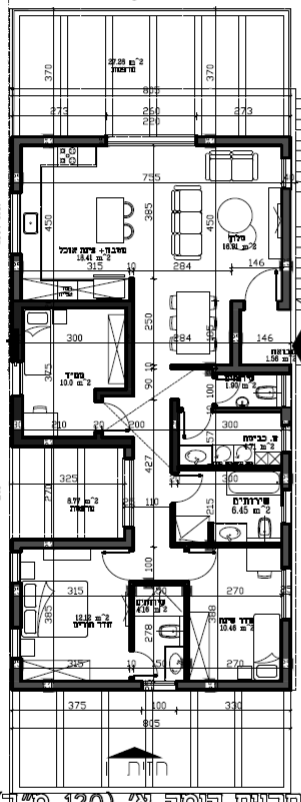door: (181, 546, 224, 582), (102, 547, 141, 580), (171, 471, 208, 502), (243, 271, 280, 301), (181, 404, 210, 441), (107, 401, 137, 435), (131, 649, 166, 677), (216, 376, 245, 407)
room: (29, 151, 152, 270), (165, 147, 282, 267), (25, 554, 125, 676), (29, 314, 126, 435), (190, 554, 280, 677), (13, 451, 125, 538), (181, 374, 280, 454), (176, 475, 281, 542)
wall: (10, 434, 134, 449), (8, 254, 25, 363), (280, 185, 293, 308), (192, 132, 292, 147), (12, 680, 143, 691), (10, 132, 108, 146), (10, 538, 131, 549), (125, 279, 136, 393), (9, 298, 131, 308), (230, 299, 243, 368), (176, 680, 288, 688), (10, 396, 24, 447), (279, 617, 292, 670), (214, 365, 295, 373), (281, 449, 295, 491), (280, 521, 291, 568), (12, 582, 20, 632)
window: (113, 134, 193, 147), (9, 188, 24, 249), (124, 448, 135, 530), (9, 451, 19, 537), (123, 462, 136, 526), (280, 569, 297, 614), (10, 367, 27, 393), (10, 632, 23, 662), (147, 679, 177, 691), (9, 552, 23, 574), (280, 157, 295, 176)
